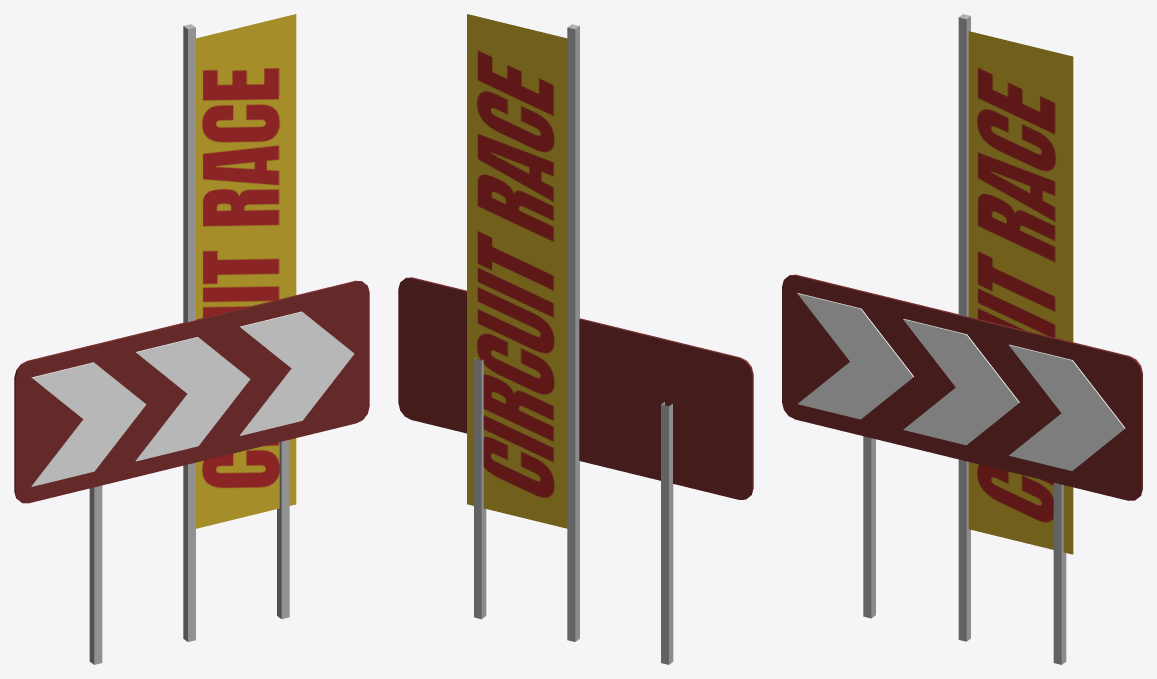
The model's file is Banners.fbx.
The picture shows the model from 3 angles, left to right: view 1: azimuth 30°, elevation 25°; view 2: azimuth 150°, elevation 25°; view 3: azimuth 330°, elevation 25°; orthographic projection.
Parts seen in each view (by area): view 1: DirectionBanner, B4; view 2: B4, DirectionBanner; view 3: DirectionBanner, B4.
Boxes of the visible parts, x1=… form: DirectionBanner: x1=14, y1=280, x2=369, y2=664; B4: x1=183, y1=14, x2=296, y2=641; B4: x1=467, y1=14, x2=579, y2=641; DirectionBanner: x1=398, y1=277, x2=753, y2=664; DirectionBanner: x1=782, y1=274, x2=1142, y2=664; B4: x1=958, y1=14, x2=1073, y2=641.
Size of the model in its own units: 381 by 630 by 11.06.
Materials: 1 (1 with a texture image).
